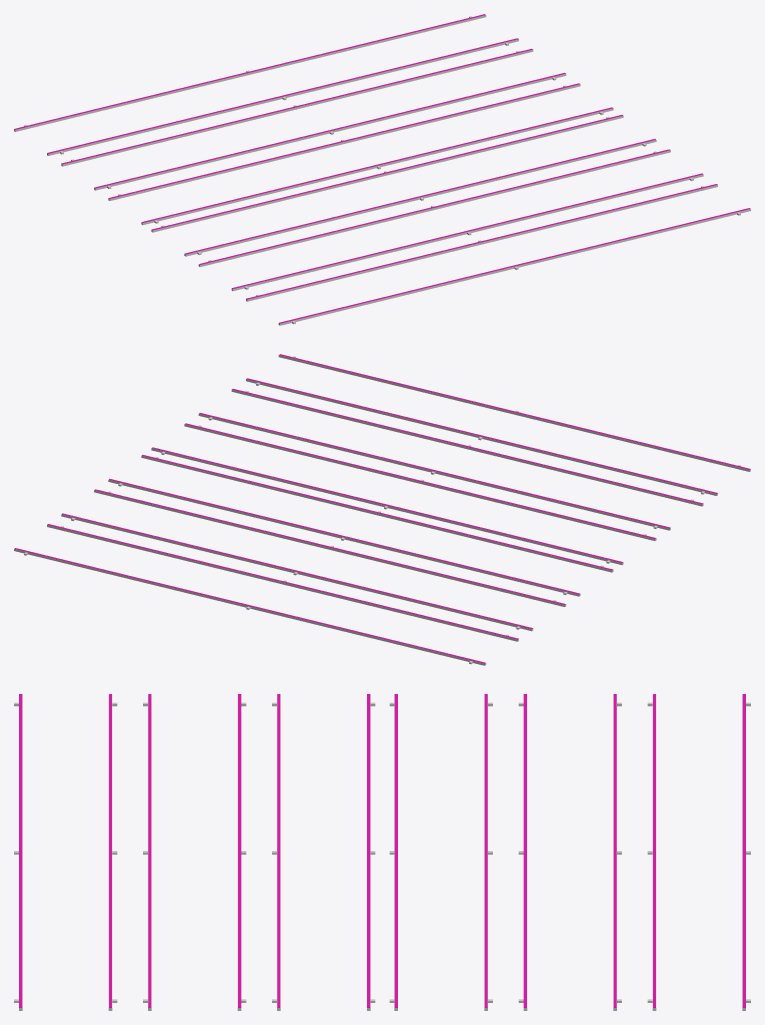
The model's file is Rails.fbx.
The picture shows the model from 3 angles, top to bottom: view 1: azimuth 30°, elevation 25°; view 2: azimuth 150°, elevation 25°; view 3: azimuth 270°, elevation 25°; orthographic projection. The views are drawn at different scales.
Visible parts, largest first — view 1: Rail.005, Rail.009, Rail.003, Rail.011, Rail.007, Rail.001, Rail.002, Rail.008, Rail.004, Rail.006, Rail, Rail.010; view 2: Rail.008, Rail.002, Rail.006, Rail, Rail.010, Rail.004, Rail.009, Rail.003, Rail.007, Rail.005, Rail.011, Rail.001; view 3: Rail.003, Rail.001, Rail.008, Rail.010, Rail.011, Rail.009, Rail.007, Rail.002, Rail.004, Rail, Rail.005, Rail.006.
Part boxes in pixels (x1,y1,x2,y2): Rail.005: [141, 107, 613, 225]; Rail.009: [231, 173, 703, 291]; Rail.003: [94, 72, 566, 190]; Rail.011: [278, 208, 750, 325]; Rail.007: [184, 139, 656, 256]; Rail.001: [47, 38, 518, 155]; Rail.002: [61, 48, 533, 166]; Rail.008: [198, 149, 670, 266]; Rail.004: [108, 83, 580, 200]; Rail.006: [151, 115, 623, 232]; Rail: [14, 14, 486, 131]; Rail.010: [246, 184, 717, 301]; Rail.008: [198, 413, 670, 530]; Rail.002: [61, 513, 533, 631]; Rail.006: [151, 447, 623, 565]; Rail: [14, 548, 486, 665]; Rail.010: [246, 378, 717, 495]; Rail.004: [108, 479, 580, 596]; Rail.009: [231, 388, 703, 506]; Rail.003: [94, 489, 566, 606]; Rail.007: [184, 423, 656, 540]; Rail.005: [141, 455, 613, 572]; Rail.011: [278, 354, 750, 471]; Rail.001: [47, 524, 518, 641]; Rail.003: [518, 694, 527, 1010]; Rail.001: [647, 694, 656, 1010]; Rail.008: [237, 694, 246, 1010]; Rail.010: [108, 694, 117, 1010]; Rail.011: [14, 694, 22, 1010]; Rail.009: [143, 694, 151, 1010]; Rail.007: [272, 694, 280, 1010]; Rail.002: [613, 694, 621, 1010]; Rail.004: [484, 694, 492, 1010]; Rail: [742, 694, 750, 1010]; Rail.005: [389, 694, 397, 1010]; Rail.006: [367, 694, 375, 1010].
Size of the model in its own units: 15236 by 69 by 15115.
